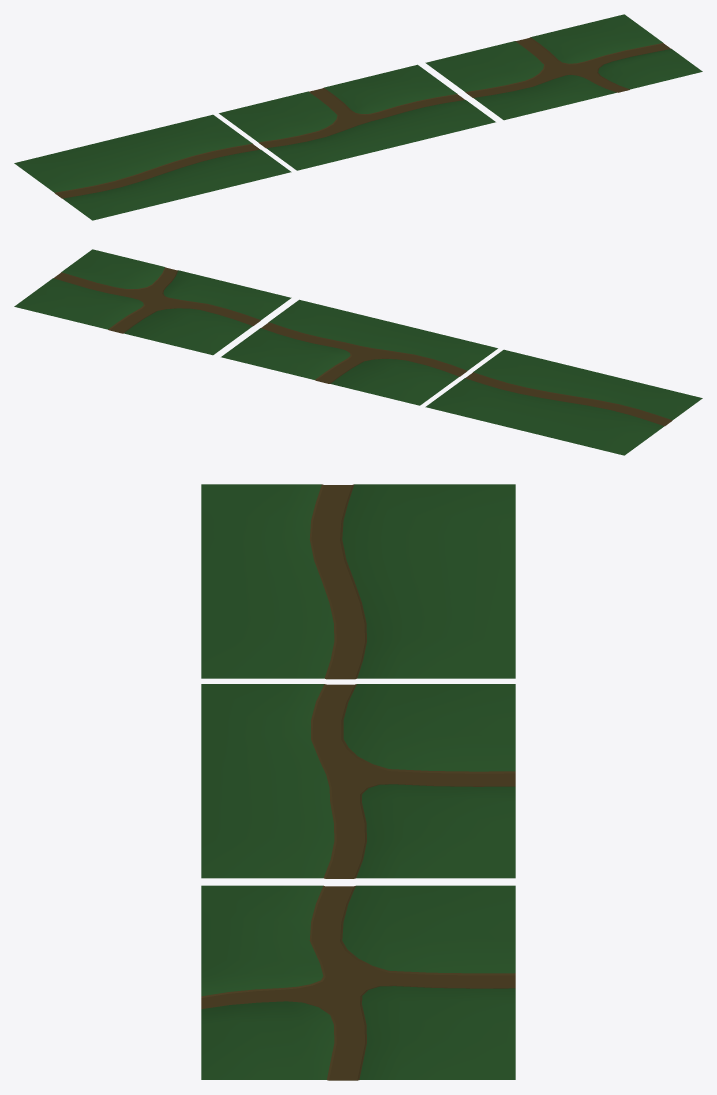
File: BosTiles.fbx
3 renders of one model, top to bottom at view 1: azimuth 30°, elevation 25°; view 2: azimuth 150°, elevation 25°; view 3: azimuth 270°, elevation 25°, orthographic. The views are drawn at different scales.
Visible parts, largest first — view 1: 3way, 1way, 2way; view 2: 2way, 3way, 1way; view 3: 1way, 2way, 3way.
Part boxes in pixels (x1,y1,x2,y2): 3way: (425, 14, 702, 120); 1way: (14, 114, 291, 220); 2way: (219, 64, 495, 170); 2way: (221, 299, 497, 405); 3way: (14, 249, 291, 355); 1way: (425, 349, 702, 455); 1way: (201, 484, 515, 679); 2way: (201, 684, 515, 878); 3way: (201, 885, 515, 1080).
Bounding box in the file's own units: 45.89 × 0.22 × 10.22.
